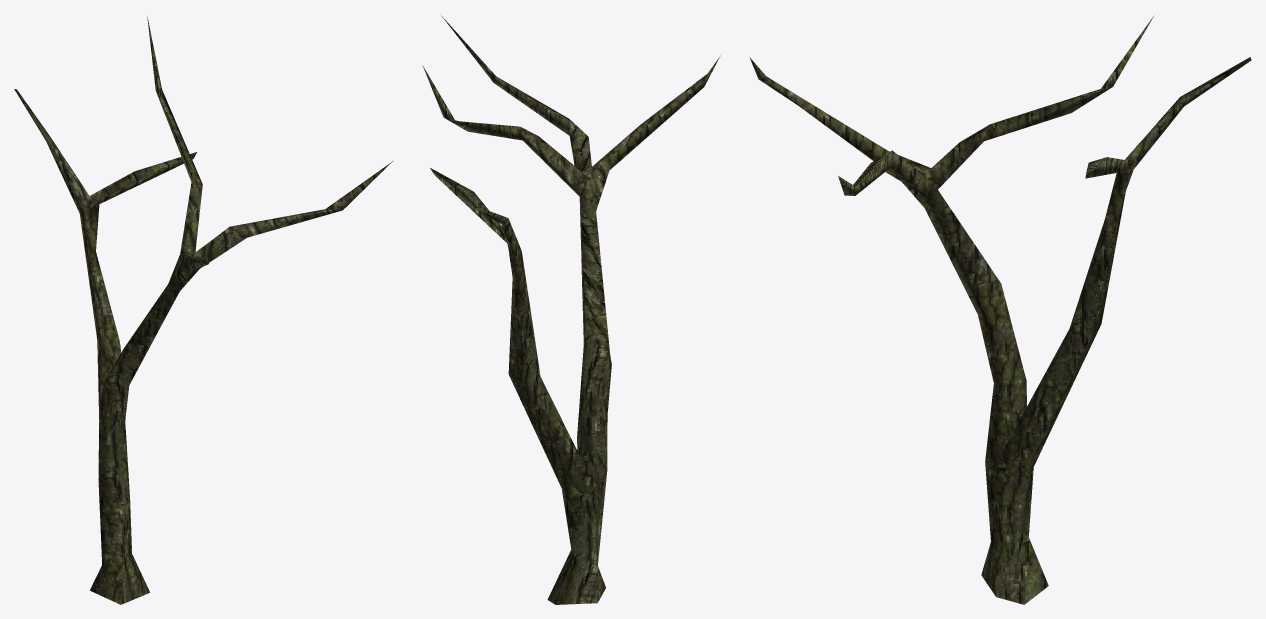
The model's file is dead_tree.glb.
The picture shows the model from 3 angles, left to right: view 1: azimuth 30°, elevation 25°; view 2: azimuth 150°, elevation 25°; view 3: azimuth 270°, elevation 25°; orthographic projection. The views are drawn at different scales.
Parts seen in each view (by area): view 1: dead_tree; view 2: dead_tree; view 3: dead_tree.
Part boxes in pixels (x1,y1,x2,y2): dead_tree: [14, 16, 392, 604]; dead_tree: [422, 16, 720, 604]; dead_tree: [749, 15, 1251, 604].
Size of the model in its own units: 4.84 by 10.7 by 7.76.
Materials: 1 (1 with a texture image).
